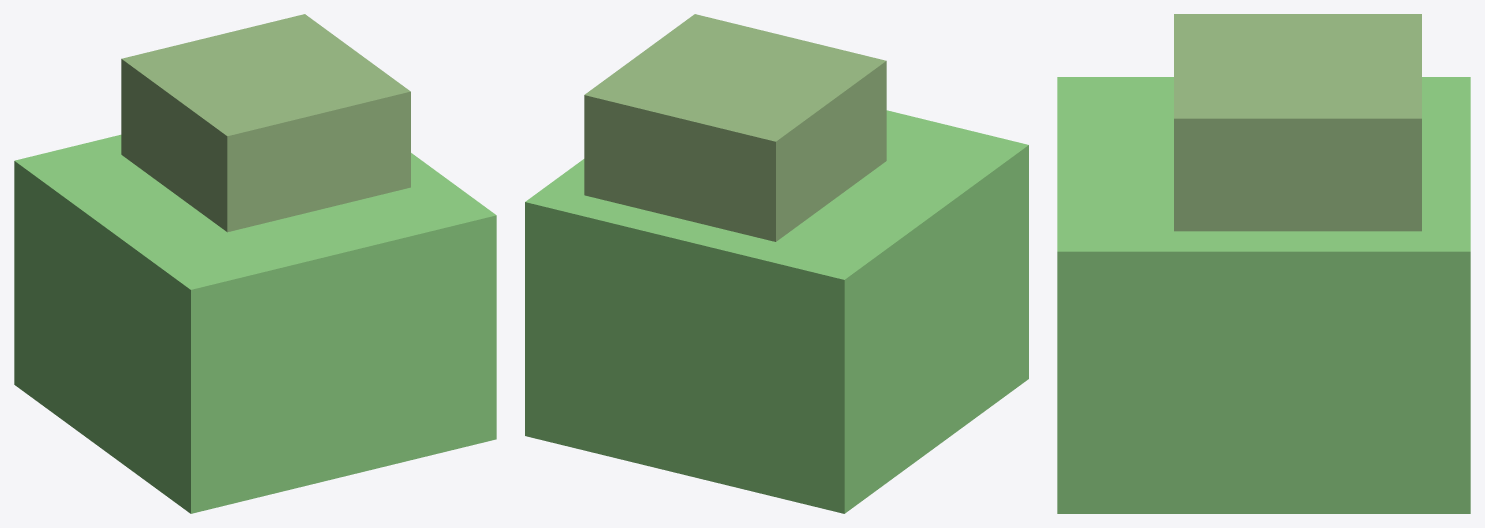
File: Prop_Dress_AMF_Bush_V19.glb
3 views of the same model, side by side, from view 1: azimuth 30°, elevation 25°; view 2: azimuth 150°, elevation 25°; view 3: azimuth 270°, elevation 25° (orthographic). The views are drawn at different scales.
Visible parts, largest first — view 1: Prop_Dress_AMF_Bush_V19; view 2: Prop_Dress_AMF_Bush_V19; view 3: Prop_Dress_AMF_Bush_V19.
Boxes of the visible parts, left/top/right/bottom form: Prop_Dress_AMF_Bush_V19: left=14, top=14, right=496, bottom=513; Prop_Dress_AMF_Bush_V19: left=525, top=14, right=1028, bottom=513; Prop_Dress_AMF_Bush_V19: left=1057, top=14, right=1470, bottom=513.
Size of the model in its own units: 1.21 by 1.21 by 1.21.
